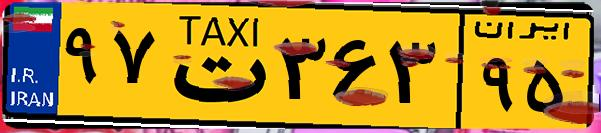3: (270, 28, 330, 110), (385, 28, 445, 110)
5: (525, 38, 570, 115)
6: (330, 28, 385, 110)
7: (110, 28, 158, 98)
9: (57, 26, 110, 100), (475, 38, 525, 113)
ت: (158, 12, 270, 120)
